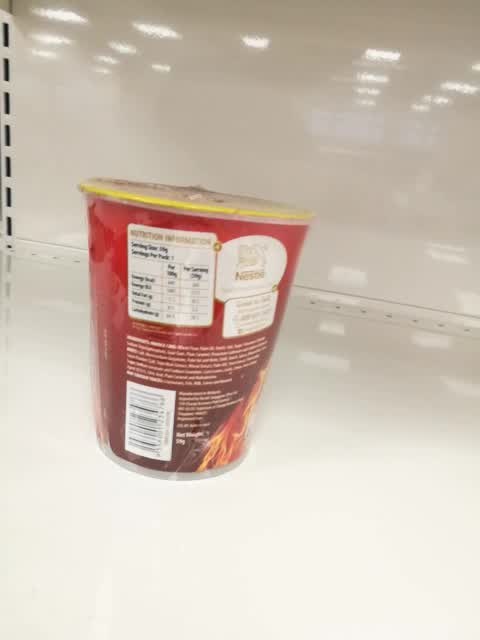maggi: (76, 175, 319, 480)
